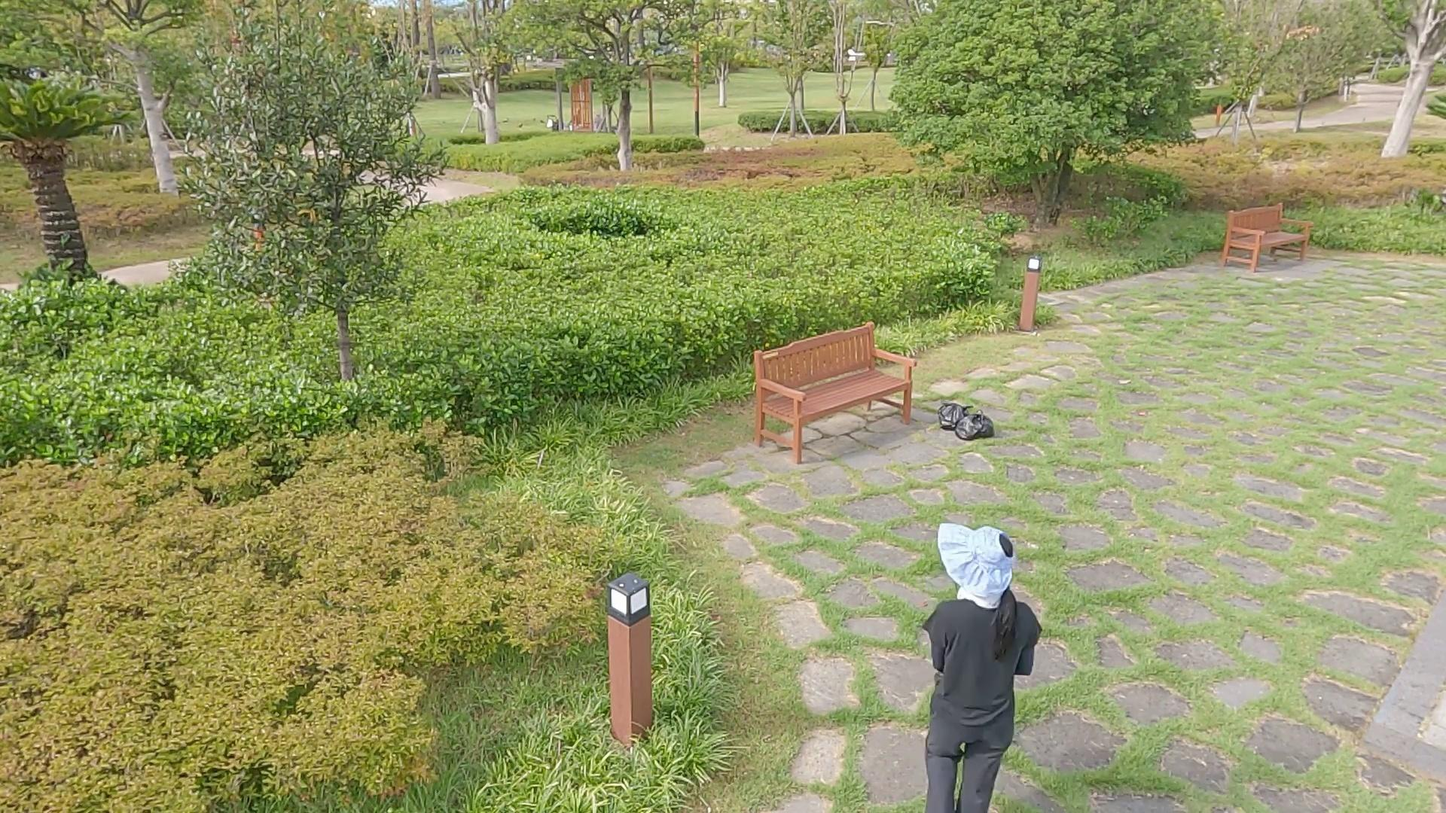trash: (915, 518, 1049, 813), (949, 401, 997, 443), (936, 397, 974, 435)
